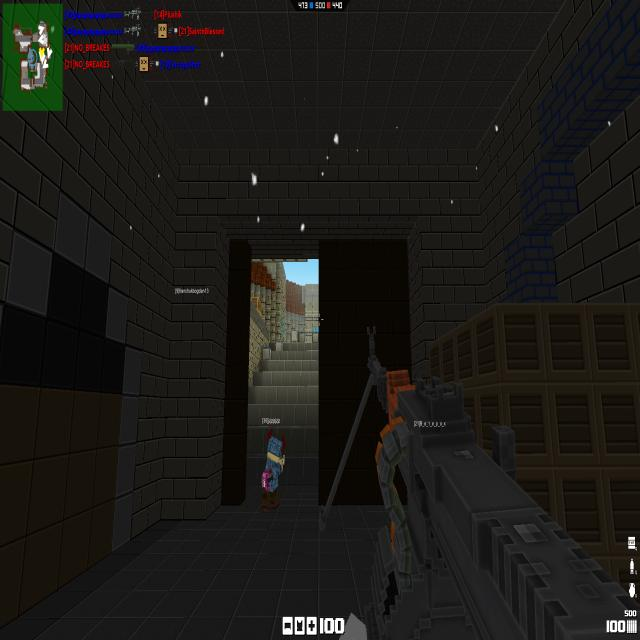player: (261, 426, 286, 513)
